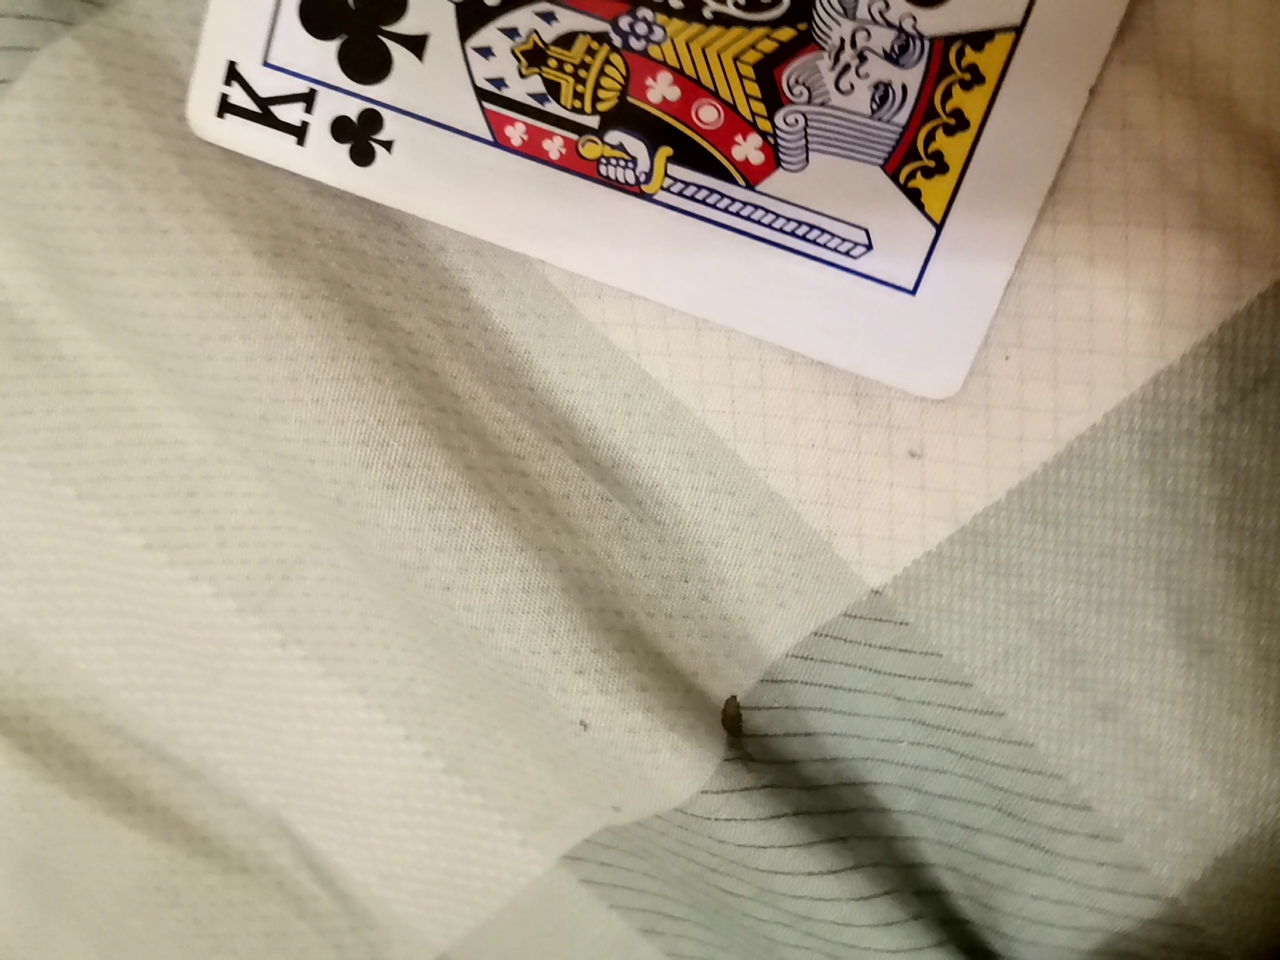mh k: (177, 0, 1239, 397)
